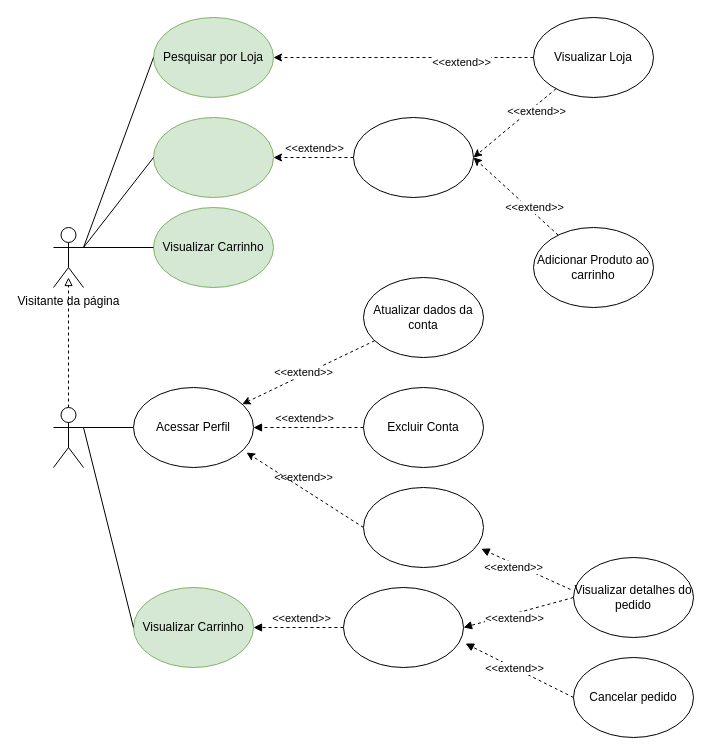
This 711x755 diagram has some shape labels left out. Each missing label, with the box of its shape:
Cliente: (52, 406, 84, 468)
Fechar pedido: (342, 586, 464, 668)
Pesquisar por Produto: (152, 116, 274, 198)
Visualizar detalhes do produto: (352, 116, 474, 198)
Visualizar Histórico de pedidos: (362, 486, 484, 568)
